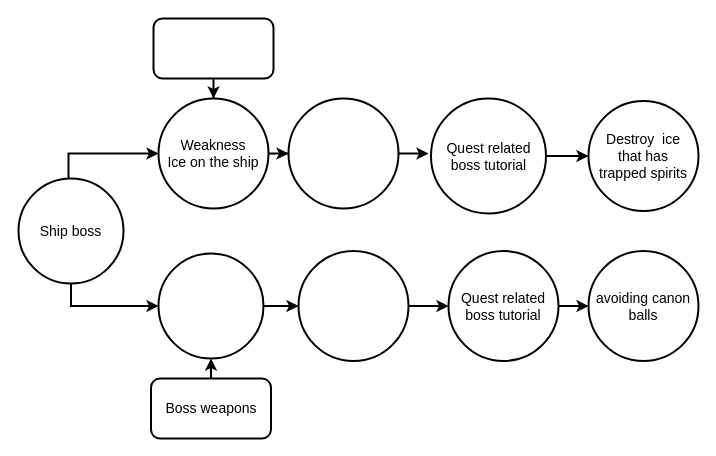
This 716x456 diagram has some shape labels left out. Here are the shapes that lost their labels. From the top down, the centre of each, then its label:
At point 213,48: "Boss weakness".
At point 343,153: "Hammer throw".
At point 210,305: "Boss canon balls".
At point 353,306: "Player needs to avoid the canon balls".
